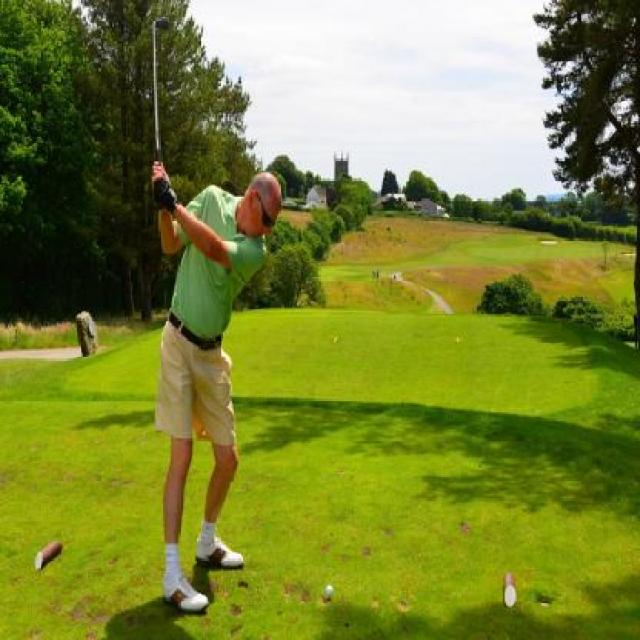club head: (152, 16, 171, 33)
